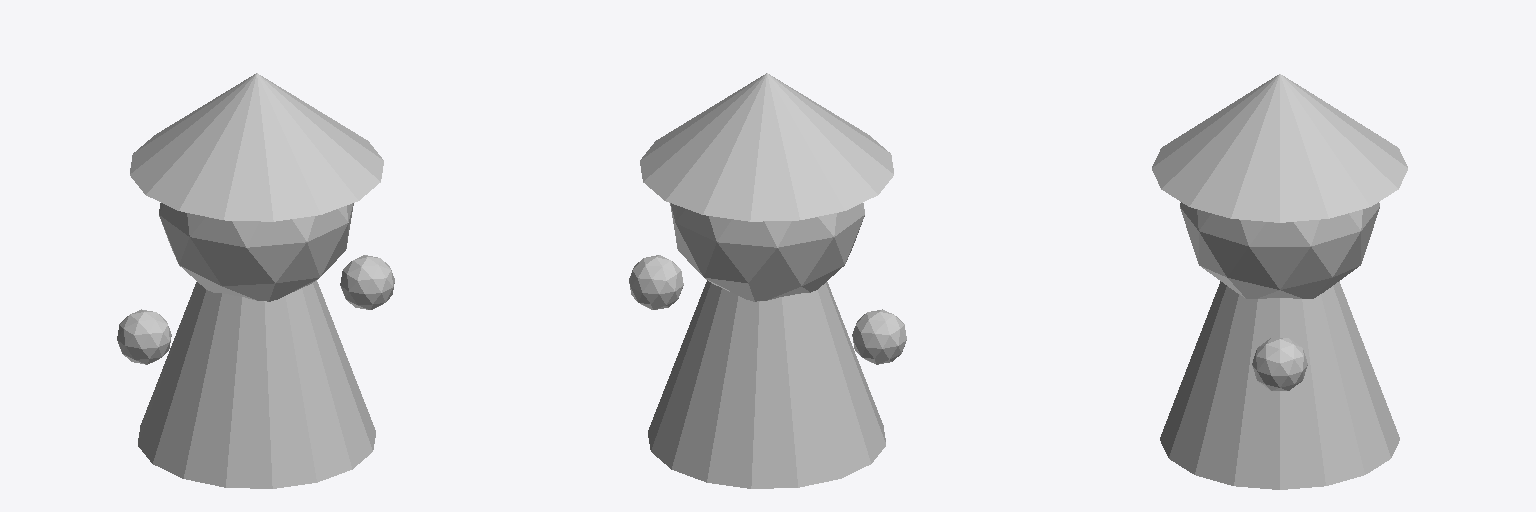
Rendered from wizard.obj.
The picture shows the model from 3 angles: view 1: azimuth 30°, elevation 25°; view 2: azimuth 150°, elevation 25°; view 3: azimuth 270°, elevation 25°; orthographic projection.
Parts seen in each view (by area): view 1: Cylinder.001, Cylinder, Cube_Cube.001; view 2: Cylinder.001, Cylinder, Cube_Cube.001; view 3: Cylinder.001, Cylinder, Cube_Cube.001.
Part boxes in pixels (left/top/right/bottom): Cylinder.001: left=117, top=255, right=394, bottom=488; Cylinder: left=130, top=73, right=383, bottom=221; Cube_Cube.001: left=159, top=203, right=353, bottom=301; Cylinder.001: left=629, top=255, right=906, bottom=488; Cylinder: left=640, top=73, right=893, bottom=221; Cube_Cube.001: left=670, top=203, right=864, bottom=301; Cylinder.001: left=1160, top=281, right=1399, bottom=489; Cylinder: left=1152, top=74, right=1407, bottom=222; Cube_Cube.001: left=1180, top=202, right=1379, bottom=298.
Size of the model in its own units: 3.1 by 4.02 by 2.56.